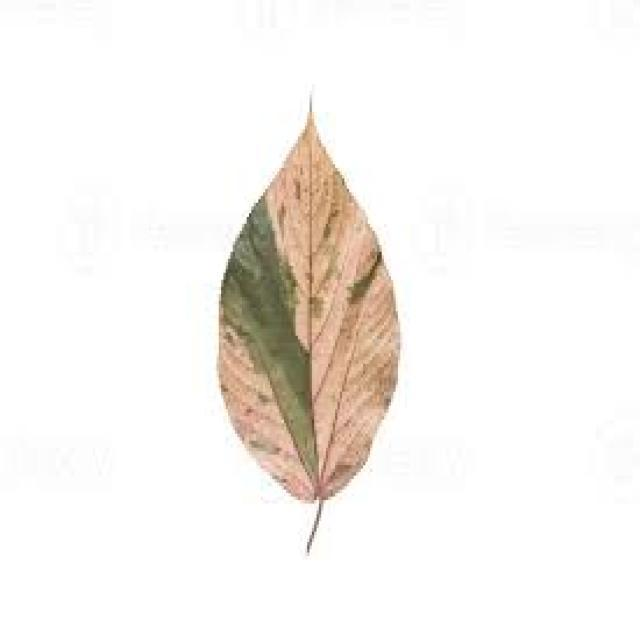leaf: (215, 88, 401, 553)
